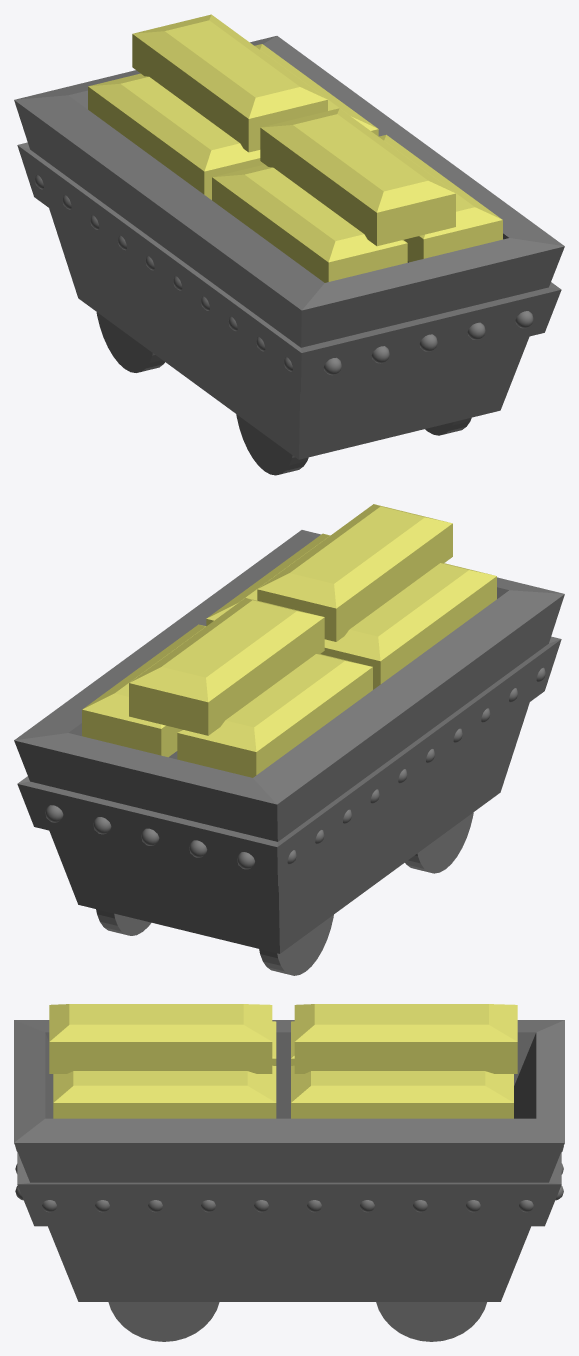
Rendered from Minecart.glb.
3 renders of one model, top to bottom at view 1: azimuth 30°, elevation 25°; view 2: azimuth 150°, elevation 25°; view 3: azimuth 270°, elevation 25°, orthographic. The views are drawn at different scales.
Parts seen in each view (by area): view 1: Sphere, Cube.002; view 2: Sphere, Cube.002; view 3: Sphere, Cube.002.
Boxes of the visible parts, x1,y1,x2,y2 form: Sphere: [14, 36, 564, 475]; Cube.002: [88, 14, 502, 282]; Sphere: [14, 530, 564, 975]; Cube.002: [82, 504, 496, 777]; Sphere: [14, 1020, 564, 1341]; Cube.002: [49, 1004, 517, 1118].
Size of the model in its own units: 2.61 by 2.83 by 4.94.
